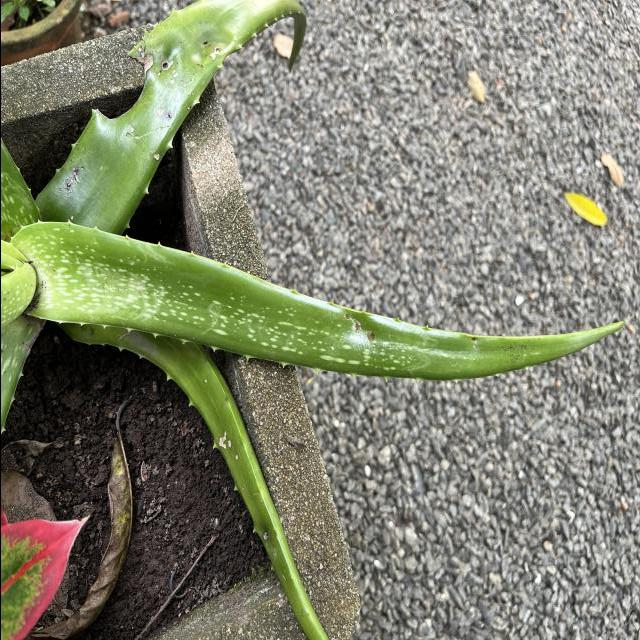Aloe vera: (11, 212, 640, 388)
